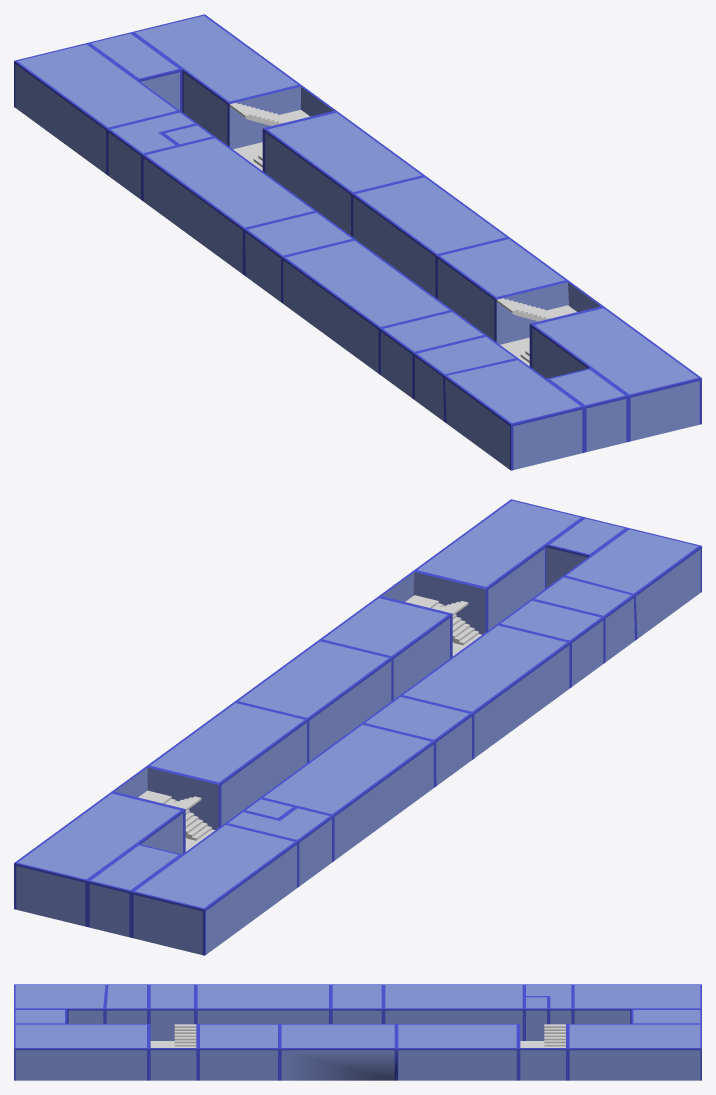
File: dstu-8.glb
3 renders of one model, top to bottom at view 1: azimuth 30°, elevation 25°; view 2: azimuth 150°, elevation 25°; view 3: azimuth 270°, elevation 25°, orthographic. The views are drawn at different scales.
Parts seen in each view (by area): view 1: 8, L8L, L8R; view 2: 8, L8L, L8R; view 3: 8, L8L, L8R.
Boxes of the visible parts, x1,y1,x2,y2 form: 8: (14,14,701,470); L8L: (496,298,576,362); L8R: (229,102,309,167); 8: (14,499,701,955); L8L: (405,595,478,645); L8R: (138,790,211,840); 8: (14,984,701,1080); L8L: (174,1024,196,1047); L8R: (544,1024,565,1047).
Bounding box in the file's own units: 13 × 3.14 × 58.64.
